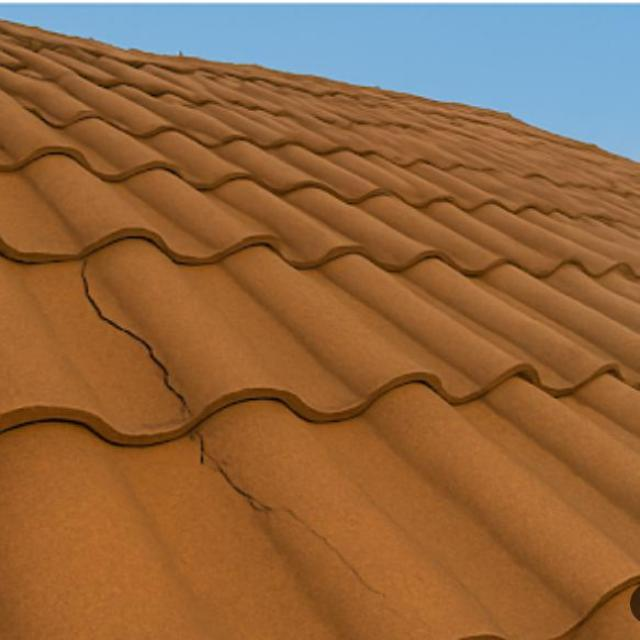fissure: (66, 253, 402, 605)
